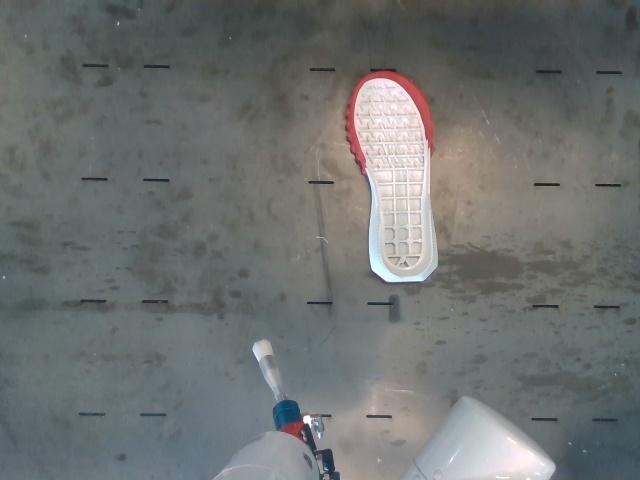shoes: (347, 71, 433, 278)
